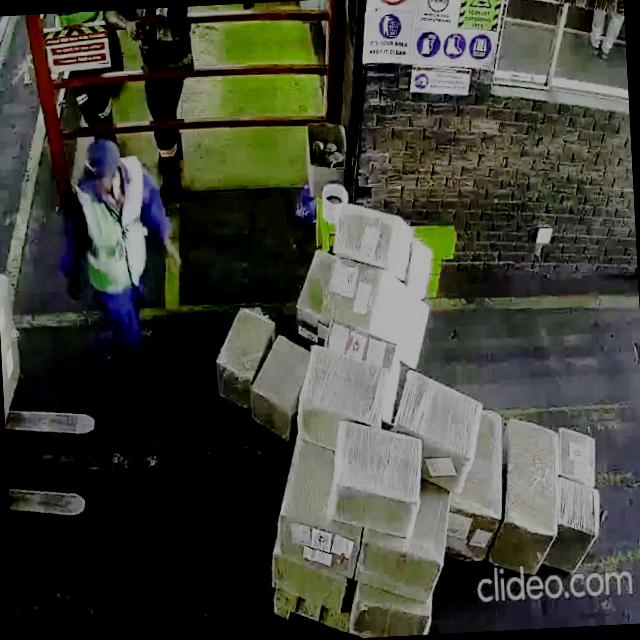Box: (326, 418, 428, 540), (396, 365, 487, 495), (332, 262, 432, 355), (502, 418, 558, 584), (298, 341, 386, 437), (208, 302, 266, 394), (338, 202, 412, 274), (278, 508, 354, 576), (555, 476, 603, 571), (254, 341, 306, 428), (362, 537, 434, 596), (352, 592, 434, 638), (449, 490, 492, 572), (558, 422, 601, 482)
